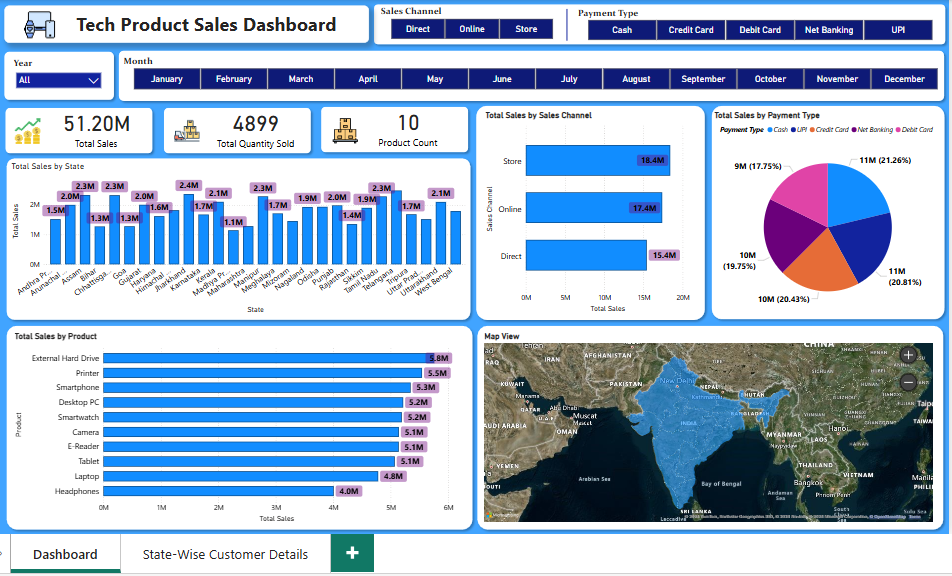

What the dashboard file says about the page in this screenshot:
{"tool":"powerbi","page":{"name":"Dashboard","canvas":[1920,1080],"ordinal":0},"visuals":[{"type":"shape","box":[747.1,0,1172.9,98.6],"z":1000},{"type":"textbox","box":[10,11.4,737.1,75.7],"z":2000},{"type":"shape","box":[0,94.8,239.3,115.3],"z":3000},{"type":"shape","box":[232,93.4,1686.6,119.6],"z":4000},{"type":"shape","box":[2.9,208.6,315,110],"z":5000},{"type":"shape","box":[322.2,208.6,315,110],"z":6000},{"type":"shape","box":[641.4,207.1,315,110],"z":7000},{"type":"shape","box":[4.4,312.2,955.6,344.3],"z":8000},{"type":"shape","box":[957.1,649.2,960,430.4],"z":9000},{"type":"shape","box":[954.3,205.7,480,451.4],"z":10000},{"type":"shape","box":[1430,205.7,488.6,450],"z":11000},{"type":"shape","box":[4.4,649.2,960,430.4],"z":12000},{"type":"slicer","title":"Sales Channel","fields":{"Values":["SalesData.Sales Channel"]},"box":[765.7,11.4,377.1,74.3],"z":13000},{"type":"slicer","title":"Payment Type","fields":{"Values":["SalesData.Payment Type"]},"box":[1164.3,12.9,745.7,74.3],"z":14000},{"type":"shape","box":[1111.4,18.6,68.6,64.3],"z":15000},{"type":"slicer","title":"Year","fields":{"Values":["SalesData.Date.Variation.Date Hierarchy.Year"]},"box":[21.9,116.7,192.6,70],"z":16000},{"type":"slicer","title":"Month","fields":{"Values":["SalesData.Date.Variation.Date Hierarchy.Month"]},"box":[243.6,110.9,1674.9,75.9],"z":17000},{"type":"clusteredBarChart","fields":{"Category":["SalesData.Sales Channel"],"Y":["Sum(SalesData.Sales)"]},"box":[975.7,222.9,437.1,412.9],"z":18000},{"type":"columnChart","fields":{"Category":["SalesData.State"],"Y":["Sum(SalesData.Sales)"]},"box":[17.5,327.8,930.9,310.3],"z":19000},{"type":"pieChart","fields":{"Category":["SalesData.Payment Type"],"Y":["Sum(SalesData.Sales)"]},"box":[1440,222.9,468.6,425.7],"z":20000},{"type":"card","title":"Total Sales","fields":{"Values":["Sum(SalesData.Sales)"]},"box":[58.5,210.1,272.7,107.7],"z":21000},{"type":"card","fields":{"Values":["Sum(SalesData.Quantity)"]},"box":[380.4,203.5,272.7,121],"z":22000},{"type":"filledMap","title":"Map View","fields":{"Category":["SalesData.State"]},"box":[975.2,669,917.5,390.9],"z":23000},{"type":"clusteredBarChart","fields":{"Y":["Sum(SalesData.Sales)"],"Category":["SalesData.Product"]},"box":[25.3,669,900.4,391],"z":24000},{"type":"card","fields":{"Values":["Count(SalesData.Product)"]},"box":[700.9,206.2,247.4,109.1],"z":25000},{"type":"image","box":[25.3,234.1,62.5,62.5],"z":26000},{"type":"image","box":[347.1,232.8,61.2,62.5],"z":27000},{"type":"image","box":[666.4,232.8,61.2,61.2],"z":28000},{"type":"image","box":[21.4,12.9,115.7,72.9],"z":29000}]}

Visuals, with their boxes on the page's 1920x1080 design canvas (x1, y1, x2, y2). These are canvas units, not pixel positions in the 952x576 screenshot, which may show the page scaled, cropped or inside an application window:
shape: 747:0:1920:99
textbox: 10:11:747:87
shape: 0:95:239:210
shape: 232:93:1919:213
shape: 3:209:318:319
shape: 322:209:637:319
shape: 641:207:956:317
shape: 4:312:960:656
shape: 957:649:1917:1080
shape: 954:206:1434:657
shape: 1430:206:1919:656
shape: 4:649:964:1080
"Sales Channel" slicer: 766:11:1143:86
"Payment Type" slicer: 1164:13:1910:87
shape: 1111:19:1180:83
"Year" slicer: 22:117:214:187
"Month" slicer: 244:111:1918:187
clusteredBarChart - SalesData.Sales Channel x Sum(SalesData.Sales): 976:223:1413:636
columnChart - SalesData.State x Sum(SalesData.Sales): 18:328:948:638
pieChart - SalesData.Payment Type x Sum(SalesData.Sales): 1440:223:1909:649
"Total Sales" card: 58:210:331:318
card - Sum(SalesData.Quantity): 380:204:653:324
"Map View" filledMap: 975:669:1893:1060
clusteredBarChart - Sum(SalesData.Sales) x SalesData.Product: 25:669:926:1060
card - Count(SalesData.Product): 701:206:948:315
image: 25:234:88:297
image: 347:233:408:295
image: 666:233:728:294
image: 21:13:137:86
